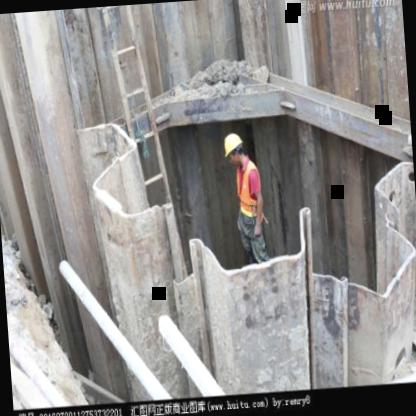helmet: (221, 129, 248, 171)
